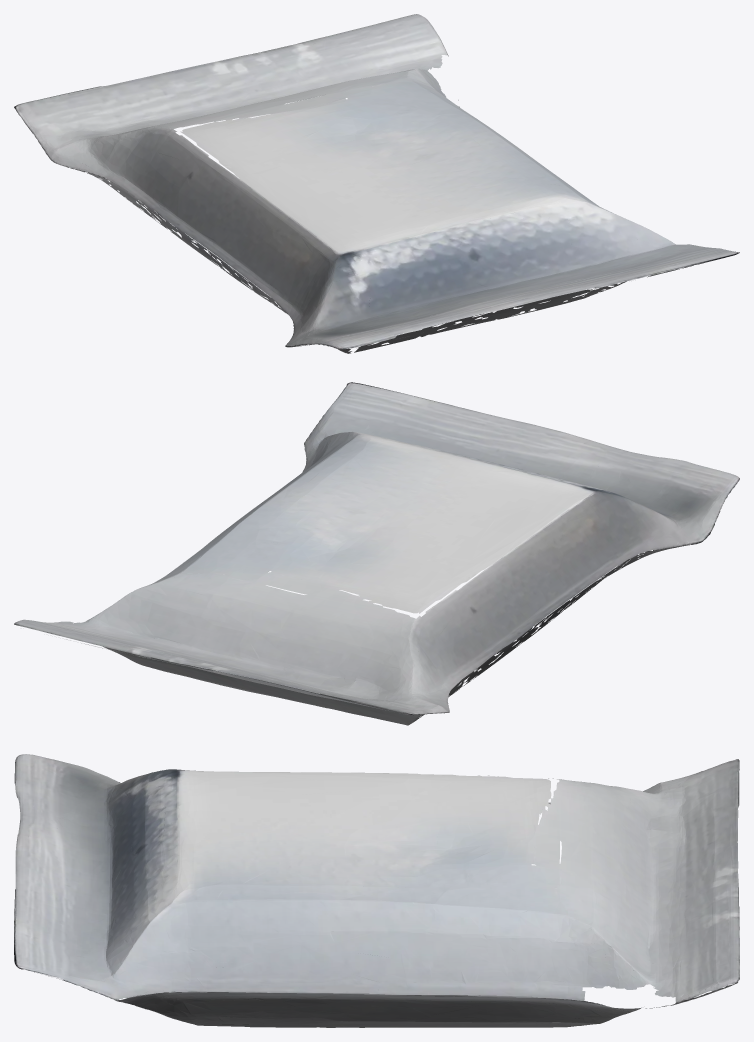
3 renders of one model, top to bottom at view 1: azimuth 30°, elevation 25°; view 2: azimuth 150°, elevation 25°; view 3: azimuth 270°, elevation 25°, orthographic. The views are drawn at different scales.
Parts seen in each view (by area): view 1: geometry_0; view 2: geometry_0; view 3: geometry_0.
Part boxes in pixels (x1,y1,x2,y2): geometry_0: (14,14,739,353); geometry_0: (14,382,739,725); geometry_0: (14,754,739,1027).
Size of the model in its own units: 0.7355 by 0.2031 by 1.
Materials: 1 (1 with a texture image).
